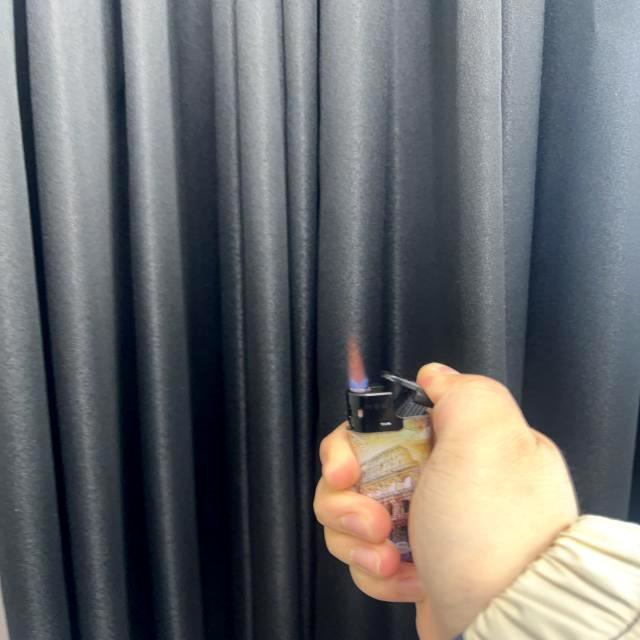fire: (341, 332, 371, 392)
